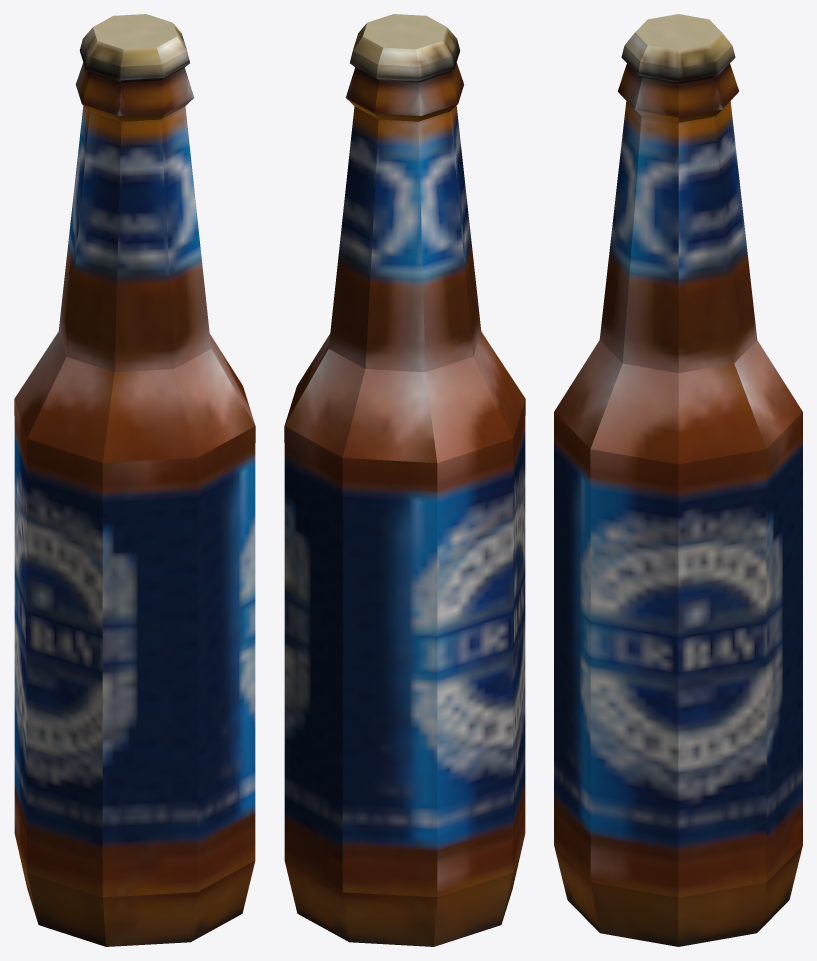
Rendered from Glass_Beer_3.fbx.
The picture shows the model from 3 angles, left to right: view 1: azimuth 30°, elevation 25°; view 2: azimuth 150°, elevation 25°; view 3: azimuth 270°, elevation 25°; orthographic projection.
Parts seen in each view (by area): view 1: Glass_Beer; view 2: Glass_Beer; view 3: Glass_Beer.
Part boxes in pixels (box(x1,y1,x2,y2)): Glass_Beer: box(14, 14, 255, 946); Glass_Beer: box(284, 14, 525, 946); Glass_Beer: box(554, 14, 802, 946).
Bounding box in the file's own units: 116 × 445 × 116.
1 material, 1 textured.
